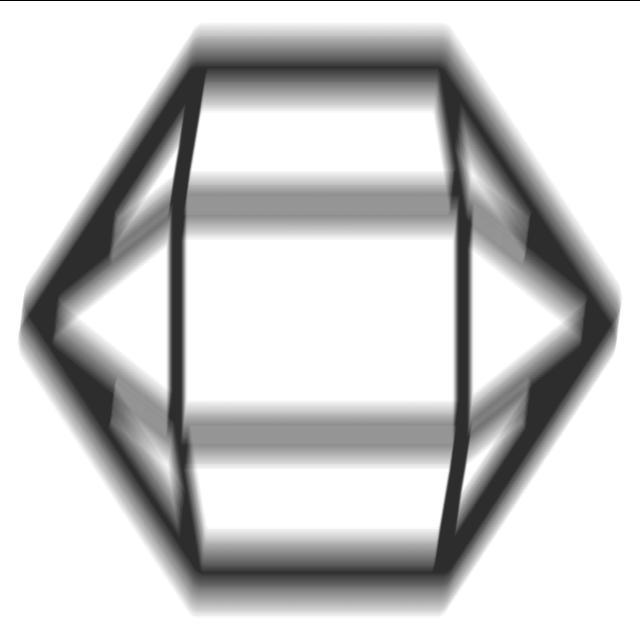crystal: (7, 5, 633, 635)
